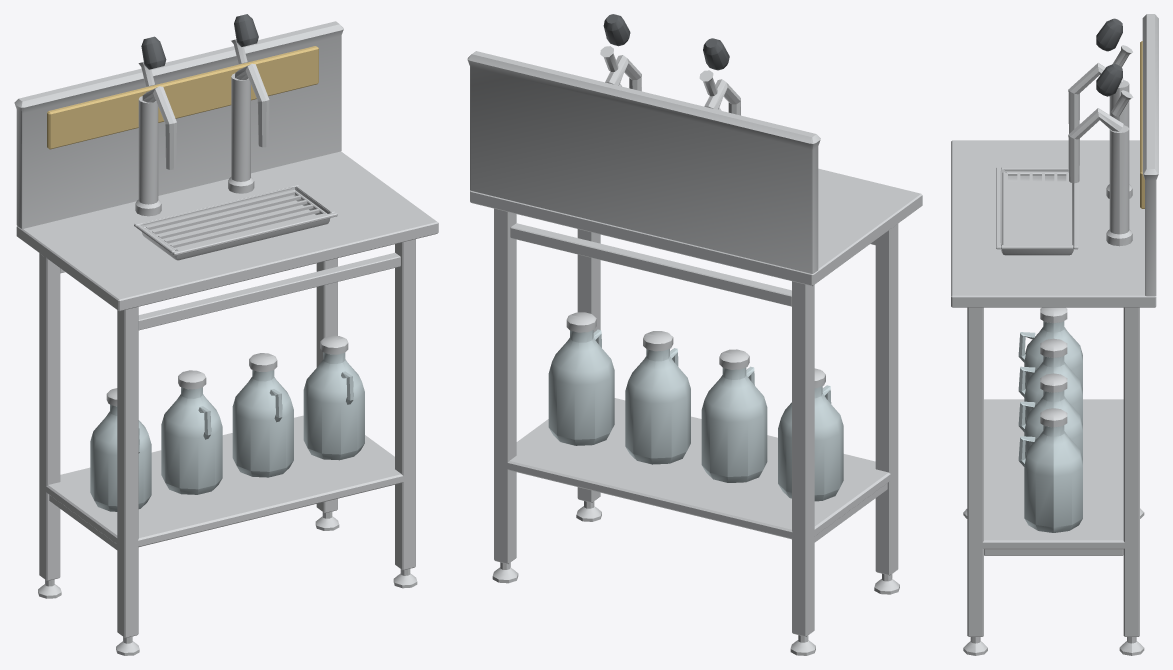
Rendered from bar-pub-and-brewery-taproom-growler-fill-station-9aef7ef2__18405.glb.
The picture shows the model from 3 angles, left to right: view 1: azimuth 30°, elevation 25°; view 2: azimuth 150°, elevation 25°; view 3: azimuth 270°, elevation 25°; orthographic projection. The views are drawn at different scales.
Visible parts, largest first — view 1: growler-fill-station; view 2: growler-fill-station; view 3: growler-fill-station.
Part boxes in pixels (x1,y1,x2,y2): growler-fill-station: (14,14,438,655); growler-fill-station: (467,14,922,655); growler-fill-station: (951,14,1158,655).
Size of the model in its own units: 0.912 by 1.45 by 0.5061.
